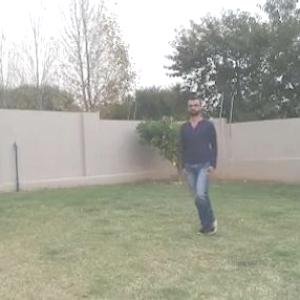follow: (184, 90, 218, 228)
